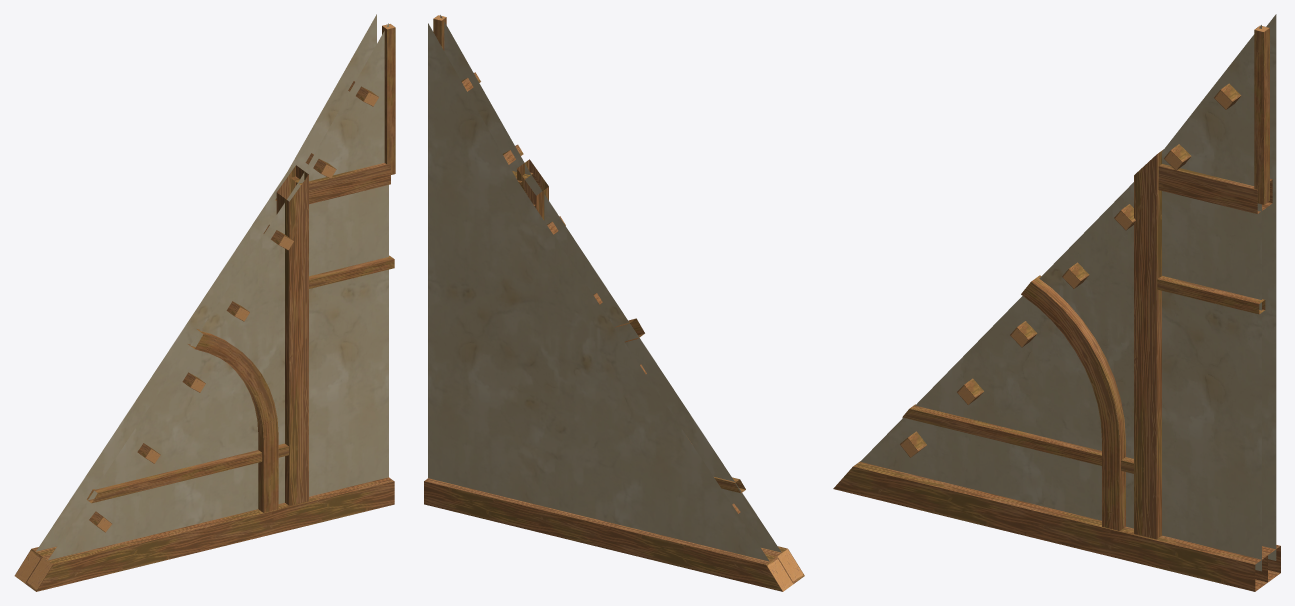
The model's file is Roof_Front_Brick8_Half_L.glb.
3 renders of one model, left to right at view 1: azimuth 30°, elevation 25°; view 2: azimuth 150°, elevation 25°; view 3: azimuth 330°, elevation 25°, orthographic. The views are drawn at different scales.
Visible parts, largest first — view 1: Roof_Front_Brick8_Half_L; view 2: Roof_Front_Brick8_Half_L; view 3: Roof_Front_Brick8_Half_L.
Boxes of the visible parts, left/top/right/bottom form: Roof_Front_Brick8_Half_L: left=14, top=14, right=395, bottom=591; Roof_Front_Brick8_Half_L: left=424, top=15, right=804, bottom=591; Roof_Front_Brick8_Half_L: left=833, top=14, right=1280, bottom=591.
Size of the model in its own units: 4.33 by 5.45 by 0.4893.
2 materials, 2 textured.
